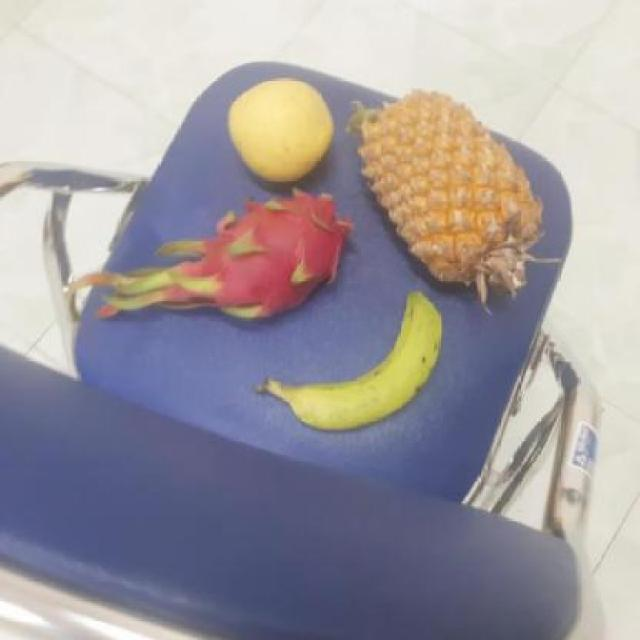banana: (254, 290, 440, 432)
dragon fruit: (190, 192, 348, 321)
pear: (224, 77, 338, 185)
pineapple: (342, 87, 543, 308)
